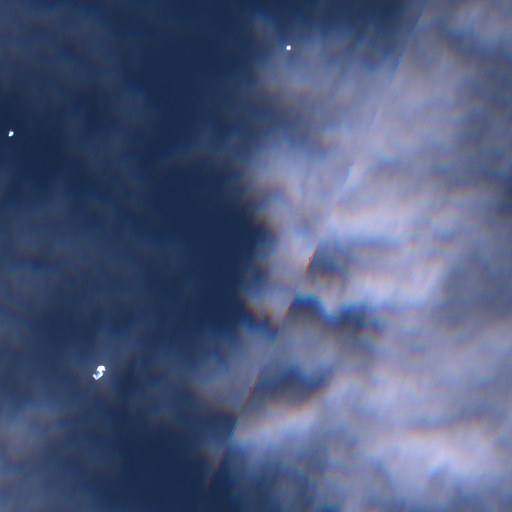Iceberg: (92, 365, 105, 379), (8, 129, 13, 136), (286, 45, 290, 50)
